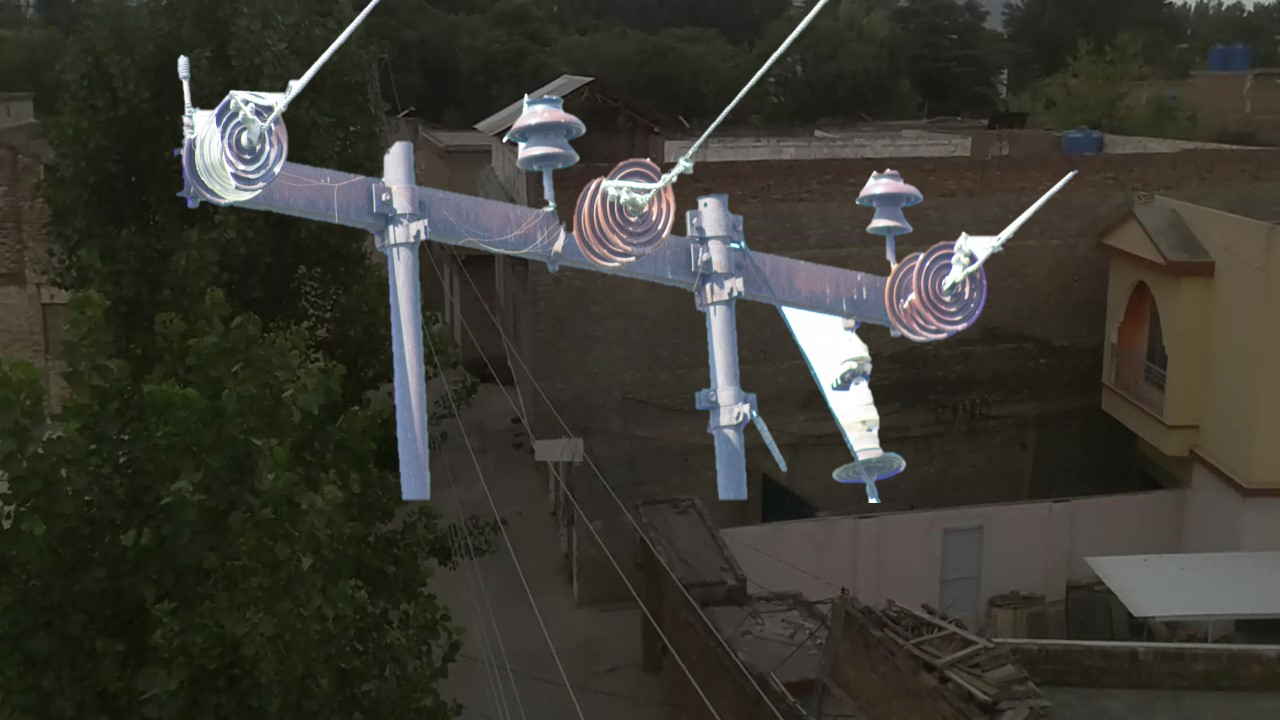defect_disc: (212, 75, 290, 194)
insulator_disc: (592, 146, 680, 262), (909, 235, 990, 335)
